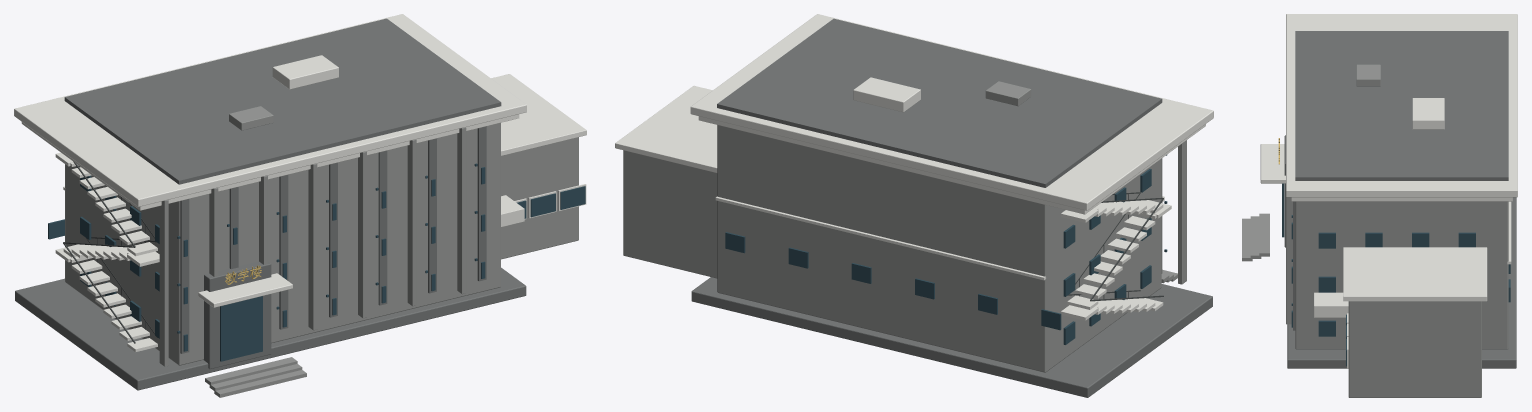
Rendered from b03-teaching.glb.
The picture shows the model from 3 angles, left to right: view 1: azimuth 30°, elevation 25°; view 2: azimuth 150°, elevation 25°; view 3: azimuth 270°, elevation 25°; orthographic projection. The views are drawn at different scales.
Parts seen in each view (by area): view 1: body, roof, eave, plinth, link-wing, link-eave, entry-bay, entry-glass, upper-fascia, rib-6, rib-5, rib-3 (+18 smaller); view 2: body, roof, eave, plinth, link-wing, link-eave, upper-fascia, roof-unit, rear-band, rib-0, roof-unit-2; view 3: roof, body, link-wing, eave, link-eave, plinth, upper-fascia, roof-unit, entry-canopy, link-bridge, rib-6, roof-unit-2 (+11 smaller).
Boxes of the visible parts, left/top/right/bottom form: body: left=65, top=123, right=500, bottom=365; roof: left=64, top=18, right=501, bottom=184; eave: left=14, top=14, right=526, bottom=206; plinth: left=15, top=267, right=526, bottom=390; link-wing: left=501, top=137, right=578, bottom=259; link-eave: left=491, top=74, right=586, bottom=155; entry-bay: left=204, top=261, right=271, bottom=369; entry-glass: left=220, top=296, right=262, bottom=361; upper-fascia: left=21, top=114, right=519, bottom=210; rib-6: left=457, top=127, right=466, bottom=294; rib-5: left=407, top=139, right=416, bottom=306; rib-3: left=308, top=163, right=317, bottom=330; body: left=717, top=125, right=1161, bottom=372; roof: left=717, top=18, right=1162, bottom=187; eave: left=690, top=14, right=1213, bottom=210; plinth: left=691, top=277, right=1212, bottom=397; link-wing: left=623, top=150, right=717, bottom=278; link-eave: left=615, top=85, right=717, bottom=172; upper-fascia: left=698, top=116, right=1205, bottom=214; roof-unit: left=853, top=77, right=920, bottom=112; rear-band: left=715, top=196, right=1045, bottom=280; rib-0: left=1178, top=140, right=1186, bottom=284; roof-unit-2: left=985, top=81, right=1031, bottom=106; roof: left=1295, top=31, right=1508, bottom=180; body: left=1295, top=201, right=1508, bottom=349; link-wing: left=1348, top=301, right=1481, bottom=397; eave: left=1286, top=14, right=1517, bottom=197; link-eave: left=1343, top=247, right=1487, bottom=301; plinth: left=1287, top=197, right=1516, bottom=368; upper-fascia: left=1291, top=197, right=1512, bottom=201; roof-unit: left=1412, top=98, right=1444, bottom=129; entry-canopy: left=1260, top=144, right=1285, bottom=183; link-bridge: left=1314, top=292, right=1348, bottom=317; rib-6: left=1286, top=197, right=1292, bottom=324; roof-unit-2: left=1356, top=64, right=1380, bottom=86.
Size of the model in its own units: 38.8 by 16.36 by 20.7.
